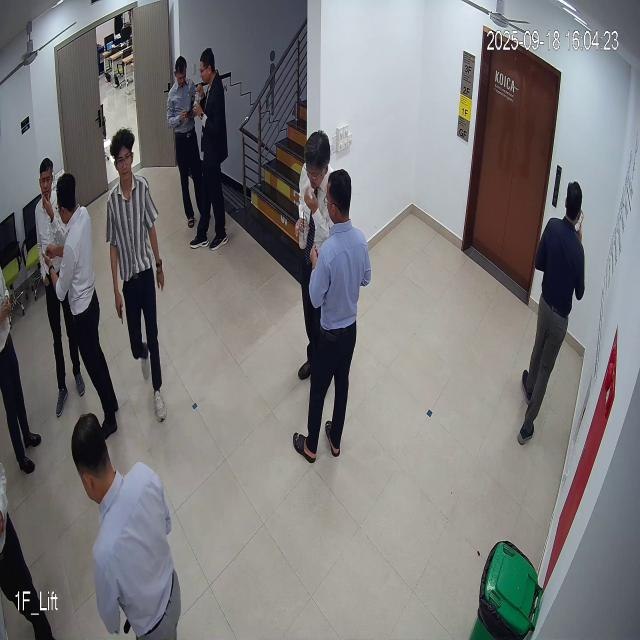face: (104, 129, 142, 185)
